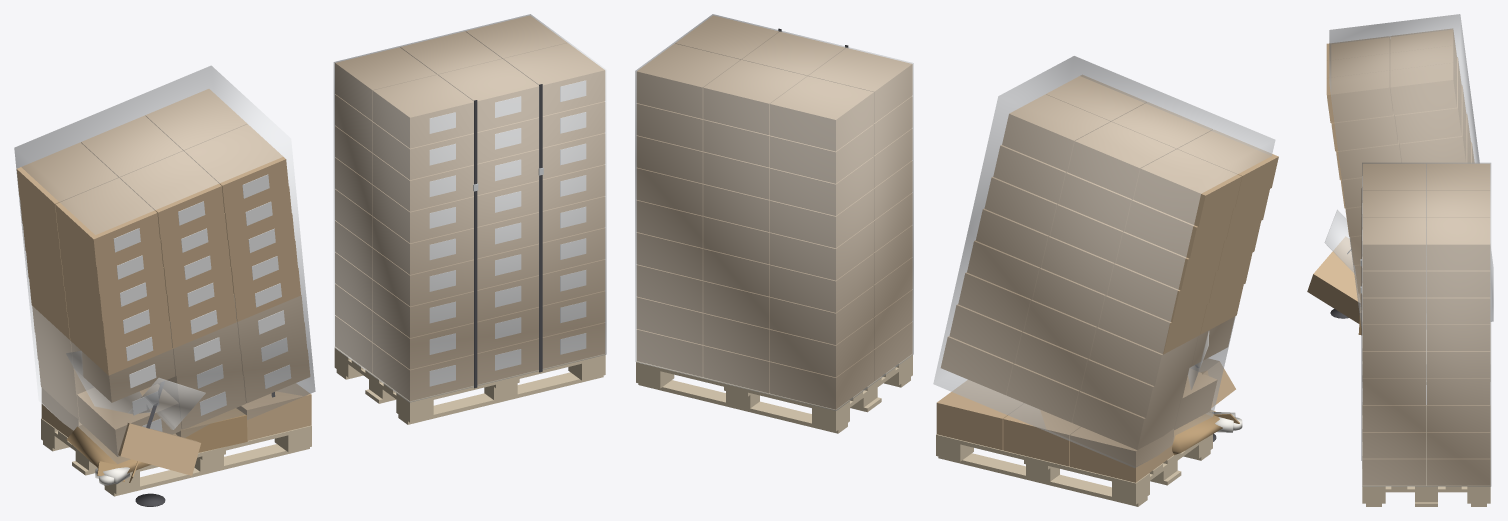
The model's file is PalletizedStacksDamage.fbx.
The picture shows the model from 3 angles, left to right: view 1: azimuth 30°, elevation 25°; view 2: azimuth 150°, elevation 25°; view 3: azimuth 270°, elevation 25°; orthographic projection. The views are drawn at different scales.
Parts seen in each view (by area): view 1: Hazard_Pallet_Catastrophic_Collapse, NonHazard_Pallet_Compliant_Secured; view 2: Hazard_Pallet_Catastrophic_Collapse, NonHazard_Pallet_Compliant_Secured; view 3: NonHazard_Pallet_Compliant_Secured, Hazard_Pallet_Catastrophic_Collapse.
Part boxes in pixels (box(x1,y1,x2,y2)): Hazard_Pallet_Catastrophic_Collapse: box(14, 65, 315, 506); NonHazard_Pallet_Compliant_Secured: box(333, 14, 606, 424); Hazard_Pallet_Catastrophic_Collapse: box(933, 56, 1278, 506); NonHazard_Pallet_Compliant_Secured: box(635, 14, 913, 433); NonHazard_Pallet_Compliant_Secured: box(1360, 162, 1491, 506); Hazard_Pallet_Catastrophic_Collapse: box(1307, 14, 1493, 384).
Bounding box in the file's own units: 329 × 207 × 117.
